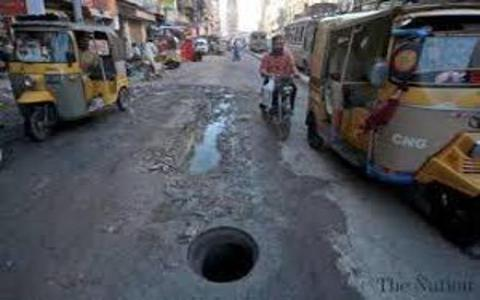open manhole: (150, 224, 275, 295)
